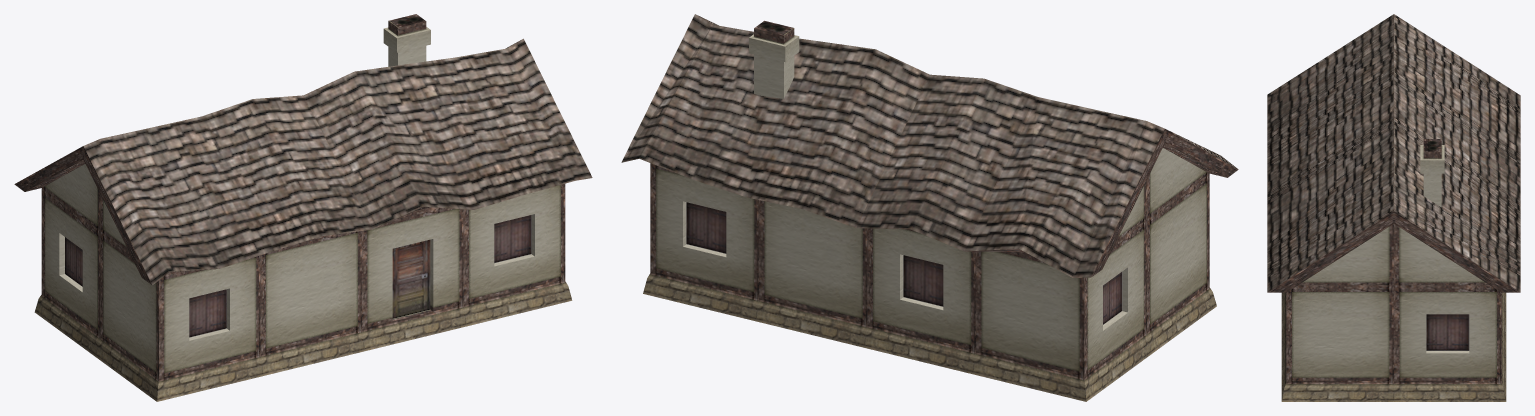
File: s44_b_house_4_2.dae
3 views of the same model, side by side, from view 1: azimuth 30°, elevation 25°; view 2: azimuth 150°, elevation 25°; view 3: azimuth 270°, elevation 25° (orthographic). The views are drawn at different scales.
Visible parts, largest first — view 1: Untitled; view 2: Untitled; view 3: Untitled.
Boxes of the visible parts, x1,y1,x2,y2 form: Untitled: [14, 14, 592, 401]; Untitled: [621, 14, 1238, 401]; Untitled: [1267, 14, 1520, 401].
Bounding box in the file's own units: 104 × 56.55 × 54.08.
1 material, 1 textured.
